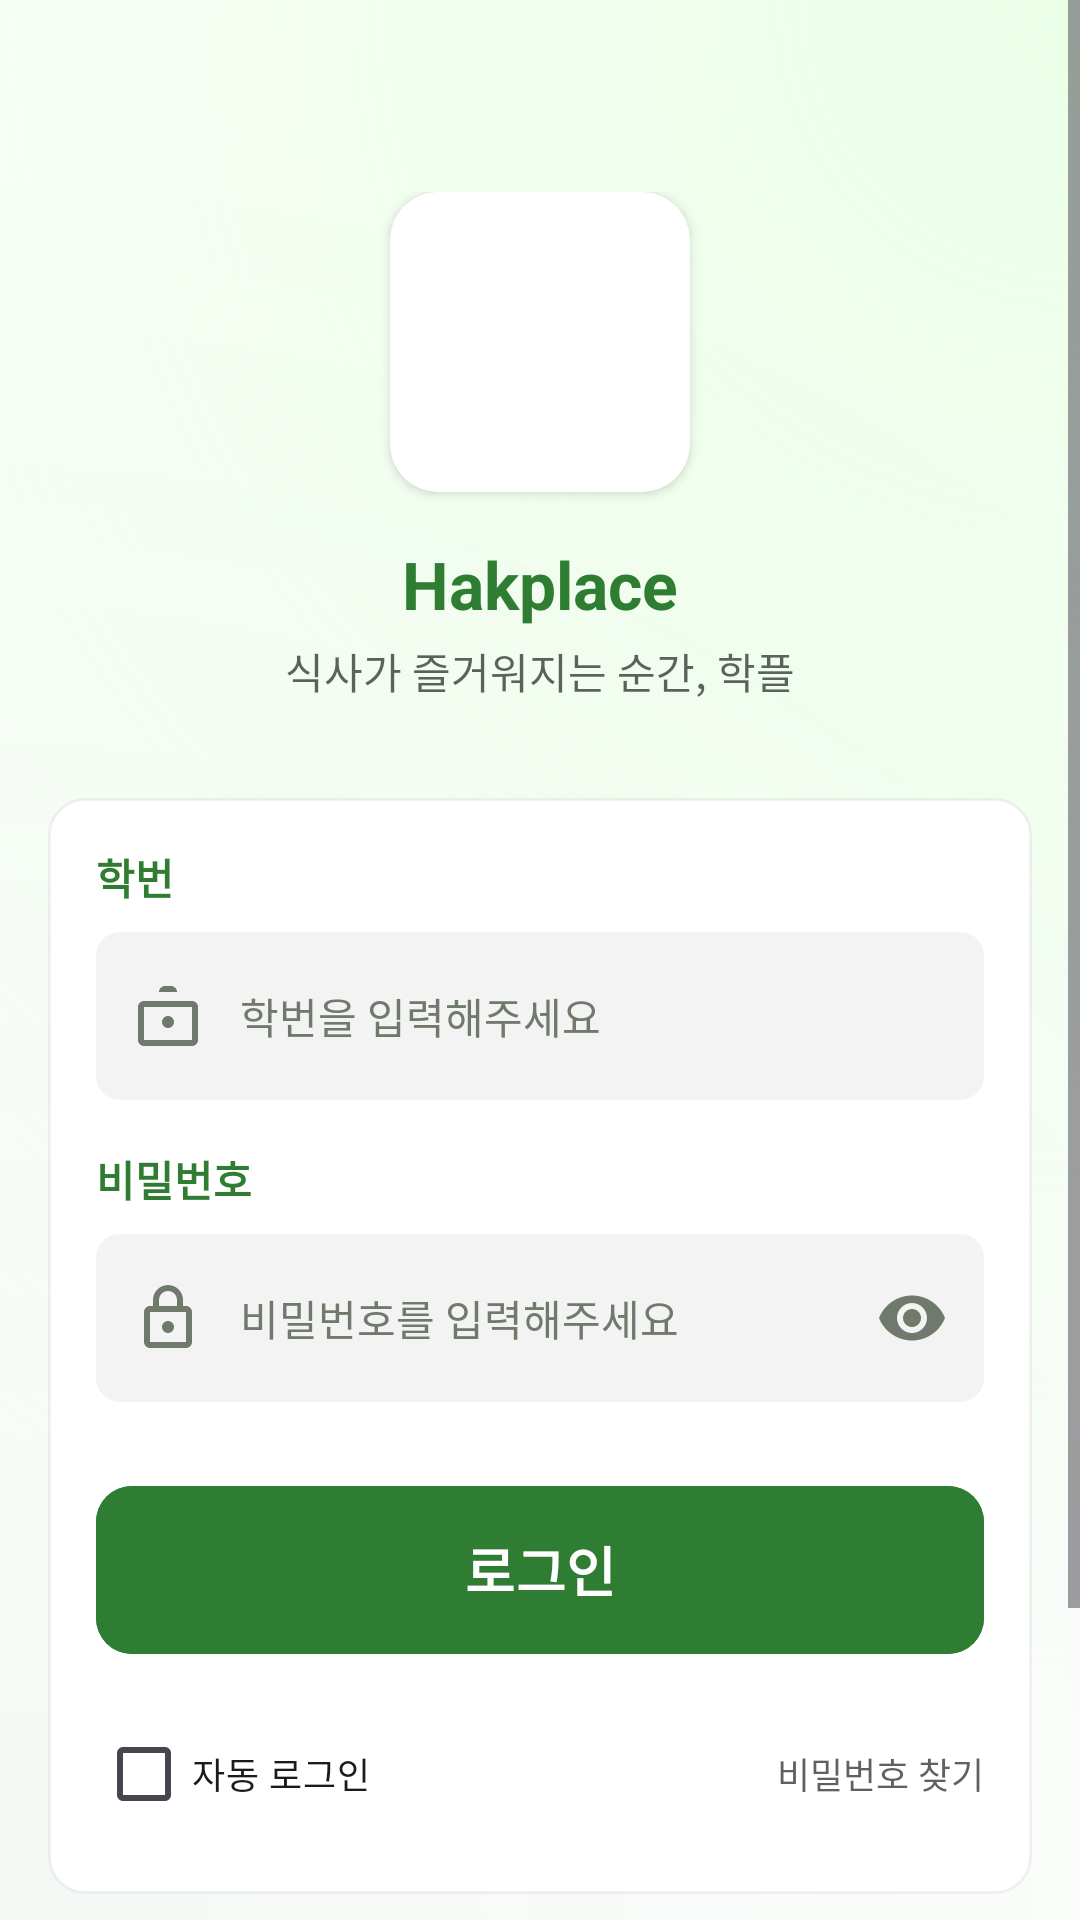

Named icons in this screenshot (1080x1920) and their bounding boxes, (x1, y1, x2, y2):
visibility: (879, 1295, 945, 1341)
